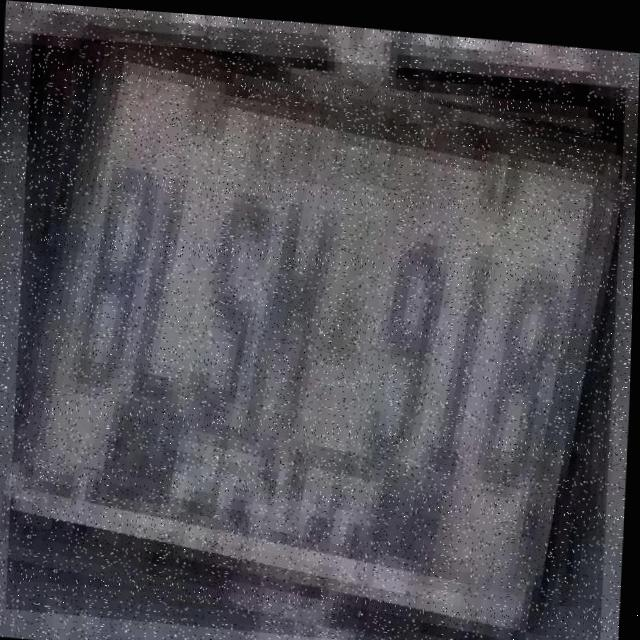LicensePlate: (9, 32, 626, 640)
